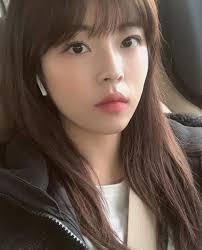earphone: (32, 73, 52, 98)
